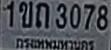0: (69, 3, 80, 28)
1: (6, 0, 13, 26)
3: (55, 2, 66, 28)
7: (83, 3, 94, 29)
8: (96, 4, 107, 29)
A02: (18, 1, 32, 26)
A22: (35, 1, 49, 28)
BKK: (15, 36, 95, 50)
